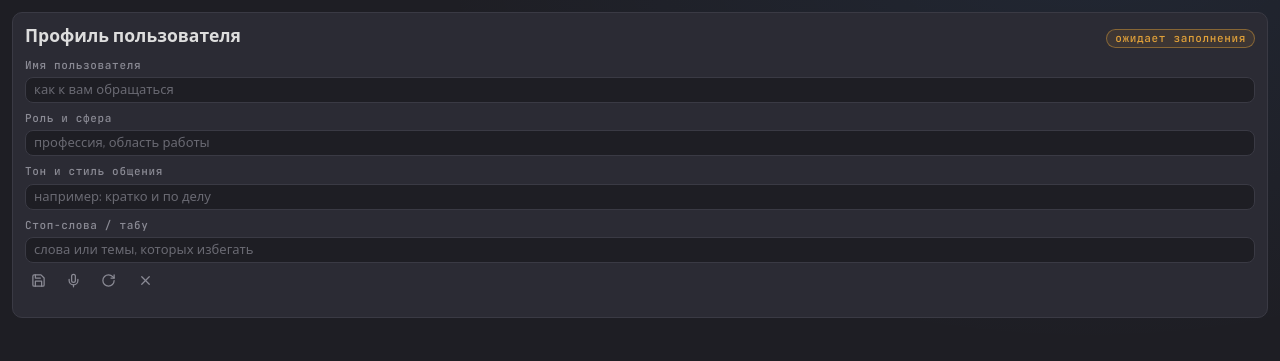
ProfileTab — вкладка «Профили» › «Провести интервью» → POST {action: interview} + подсказка в чат
Expected: the heading "Профиль пользователя" is shown, [25,25,241,50]
Click the button titled "Провести интервью": (74, 282) [60,271,87,293]
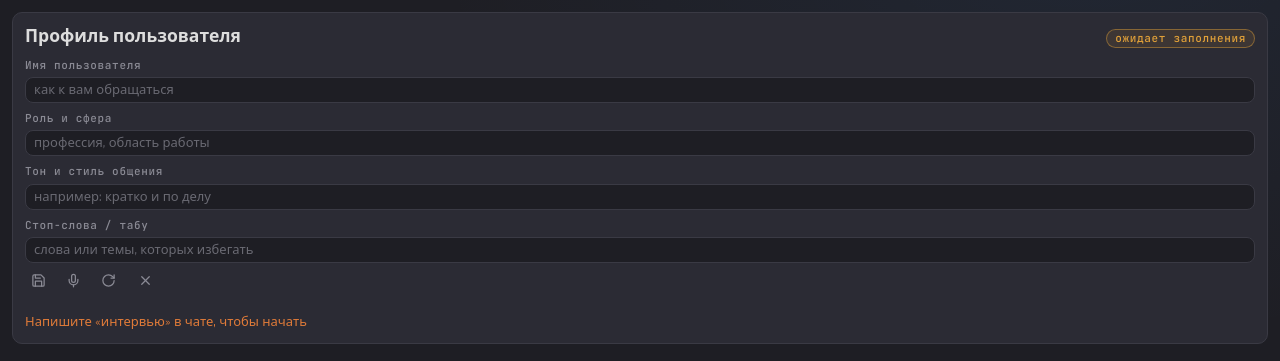
Result: the text "Напишите «интервью» в чате, чтобы начать" is shown at [25,314,307,330]
